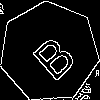B: (24, 26, 79, 83)
